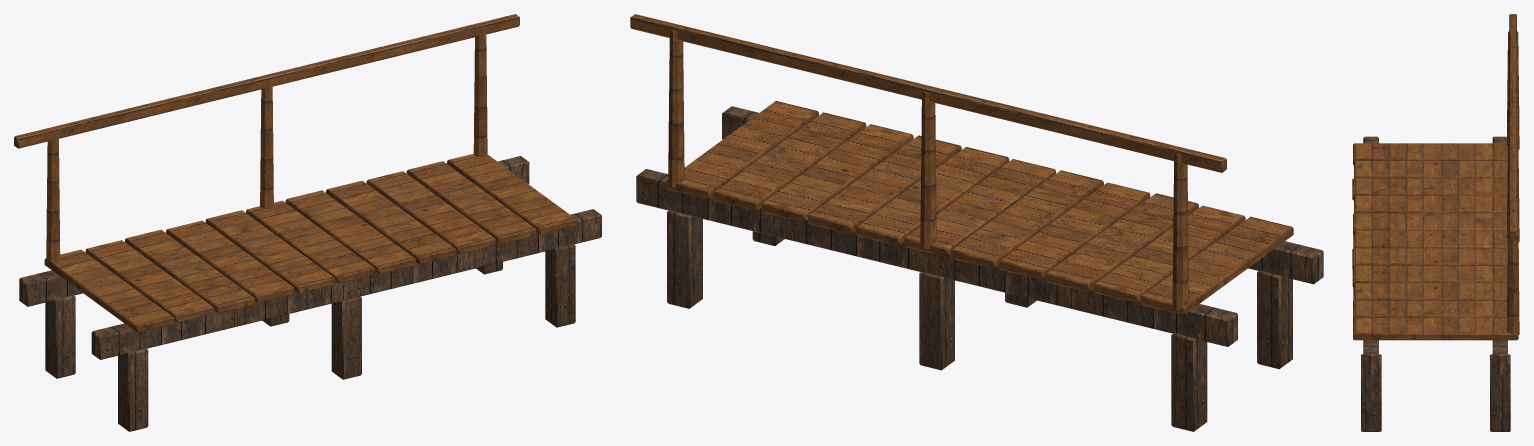
Rendered from mine-walkway-v01.glb.
3 renders of one model, left to right at view 1: azimuth 30°, elevation 25°; view 2: azimuth 150°, elevation 25°; view 3: azimuth 270°, elevation 25°, orthographic. The views are drawn at different scales.
Visible parts, largest first — view 1: mine-walkway; view 2: mine-walkway; view 3: mine-walkway.
Part boxes in pixels (x1,y1,x2,y2): mine-walkway: [14, 14, 601, 431]; mine-walkway: [630, 14, 1323, 431]; mine-walkway: [1352, 14, 1519, 431].
Size of the model in its own units: 4 by 1.82 by 1.3.
Materials: 2 (2 with a texture image).
